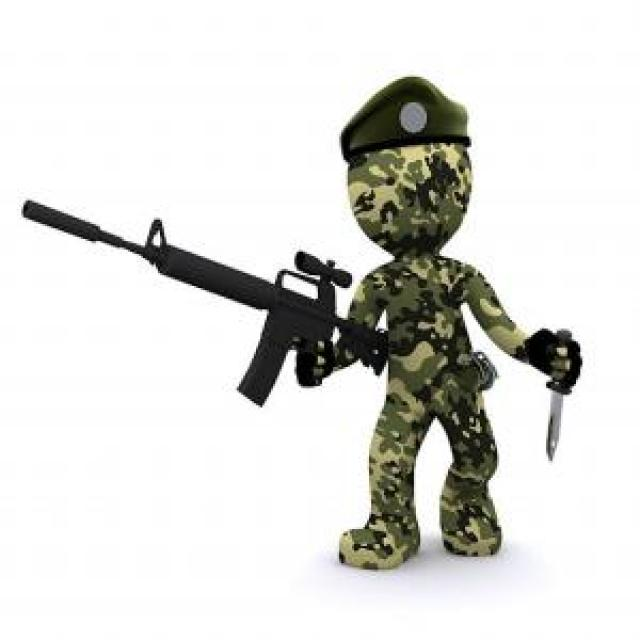knife: (538, 327, 584, 468)
